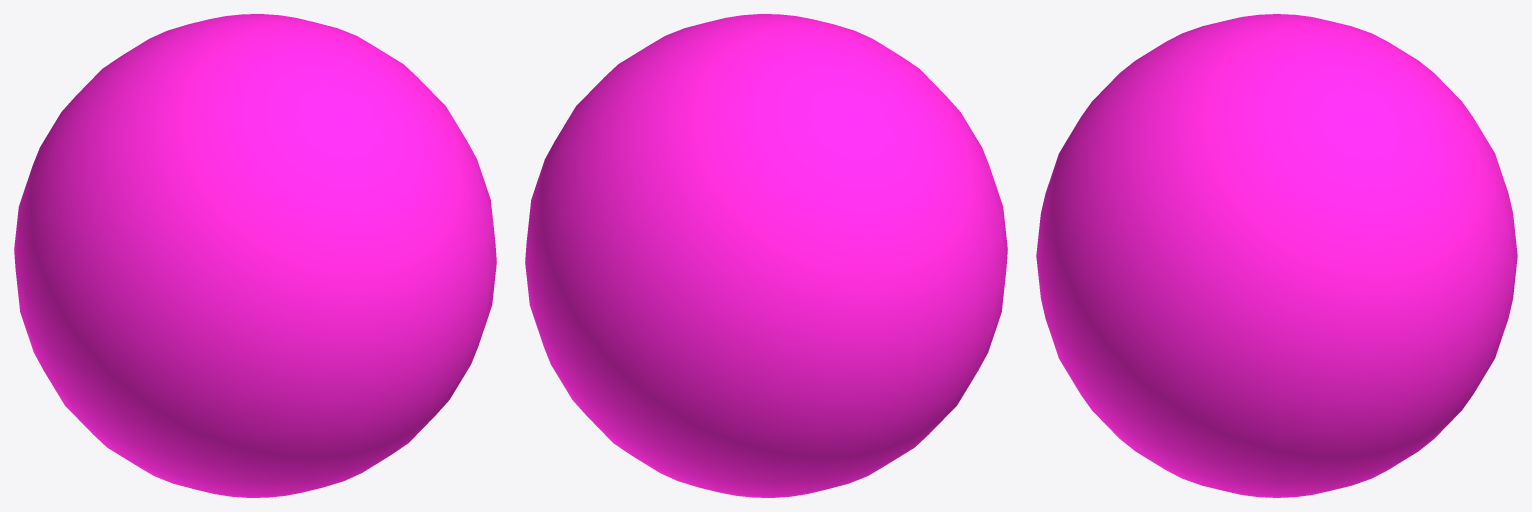
File: planet1.gltf
The picture shows the model from 3 angles, left to right: view 1: azimuth 30°, elevation 25°; view 2: azimuth 150°, elevation 25°; view 3: azimuth 270°, elevation 25°; orthographic projection.
Visible parts, largest first — view 1: Sphere.001; view 2: Sphere.001; view 3: Sphere.001.
Part boxes in pixels (box(x1,y1,x2,y2)): Sphere.001: box(14, 14, 496, 497); Sphere.001: box(525, 14, 1007, 497); Sphere.001: box(1036, 14, 1517, 497).
Bounding box in the file's own units: 351 × 351 × 349.
